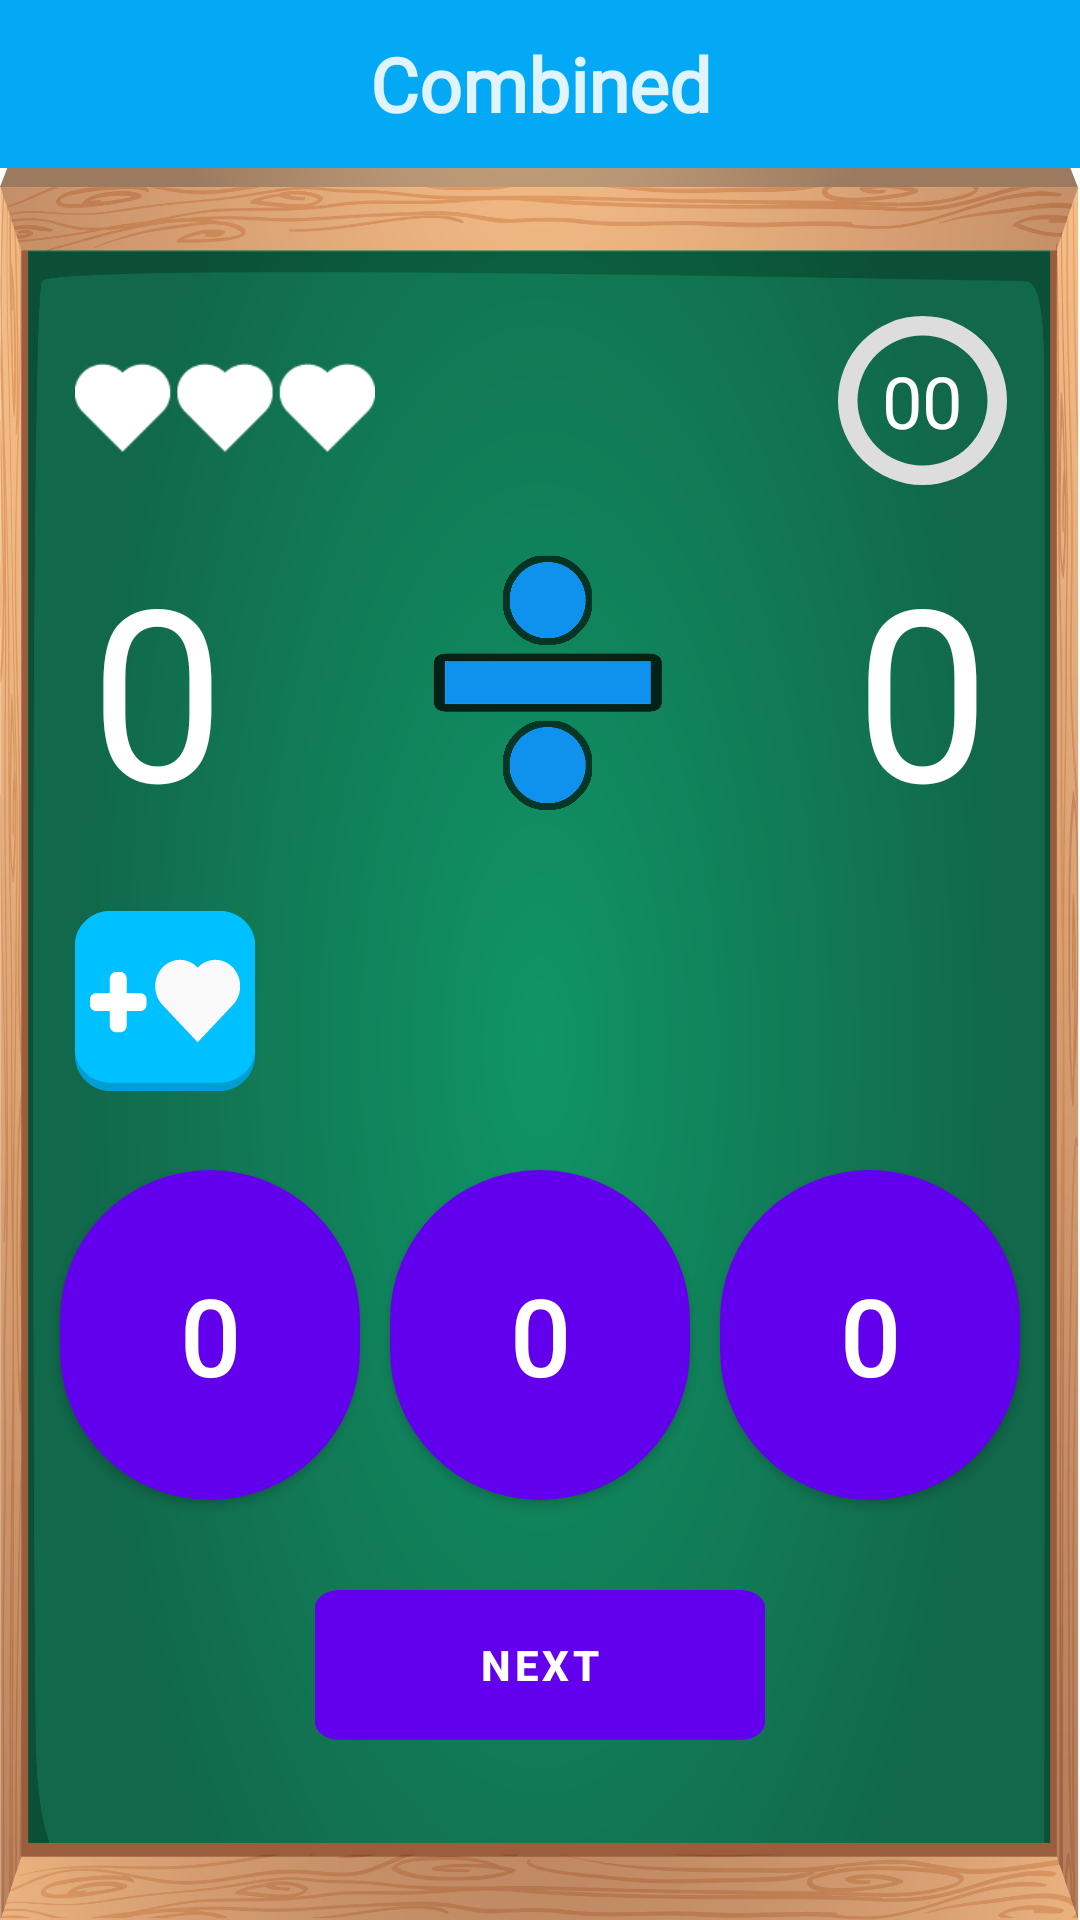

Named icons in this screenshot (1080 × 1920) and their bounding boxes, {"left": x1, "top": y1, "right": x2, "bottom": y2}:
division: {"left": 434, "top": 556, "right": 662, "bottom": 810}
lifes: {"left": 75, "top": 363, "right": 375, "bottom": 452}
